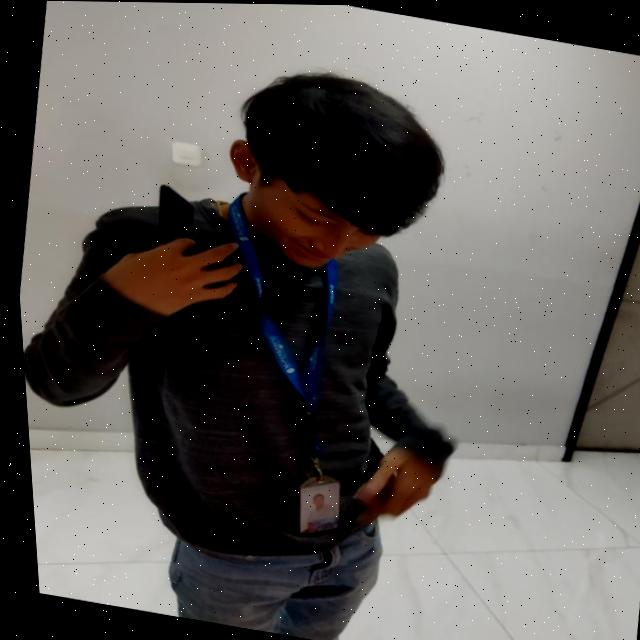id_card: (166, 190, 412, 550)
